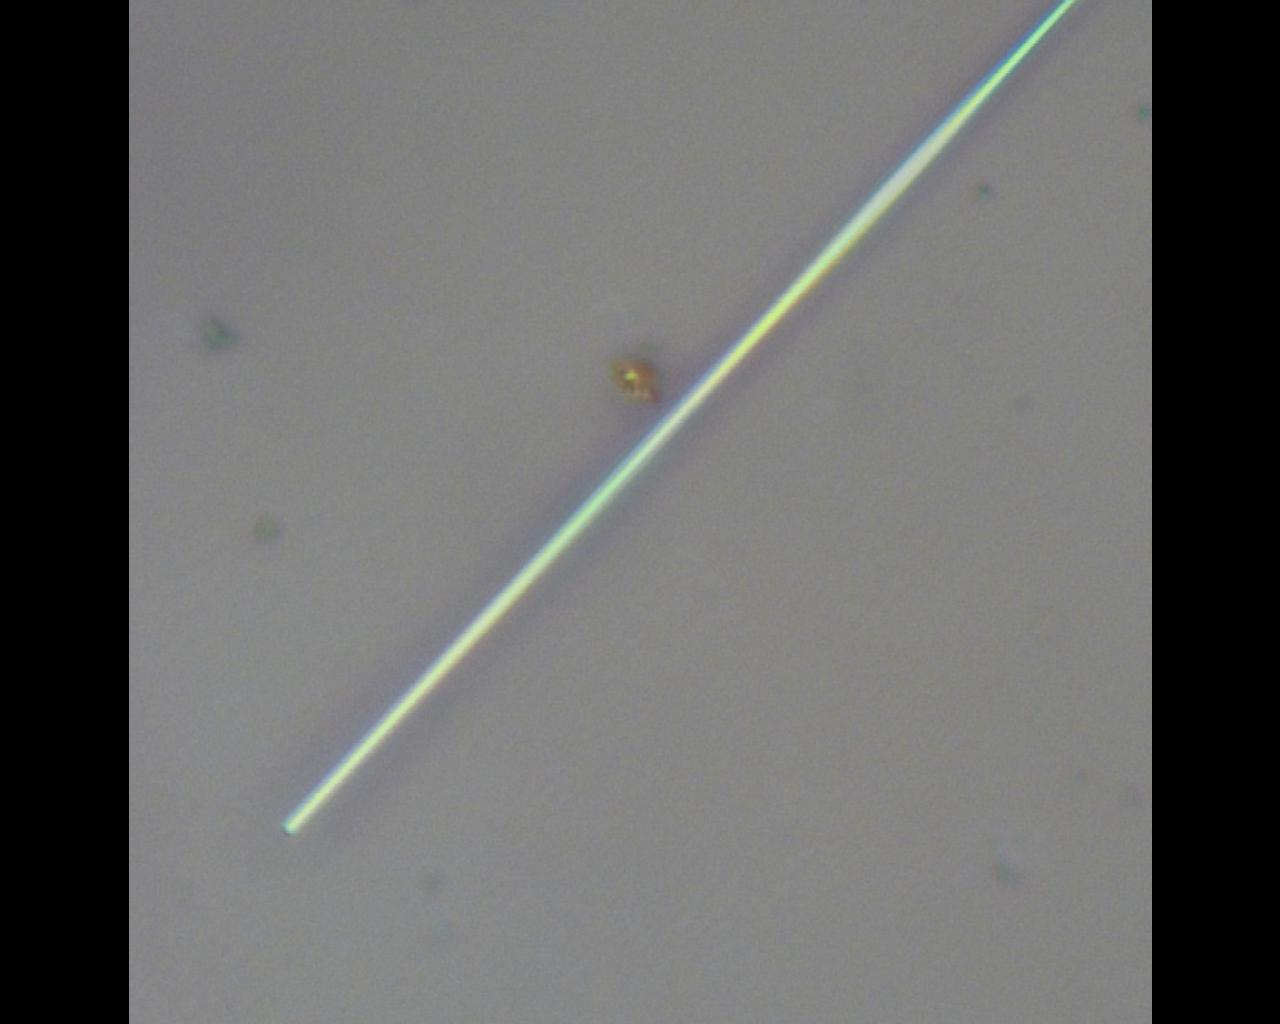fiber: (278, 0, 1081, 841)
